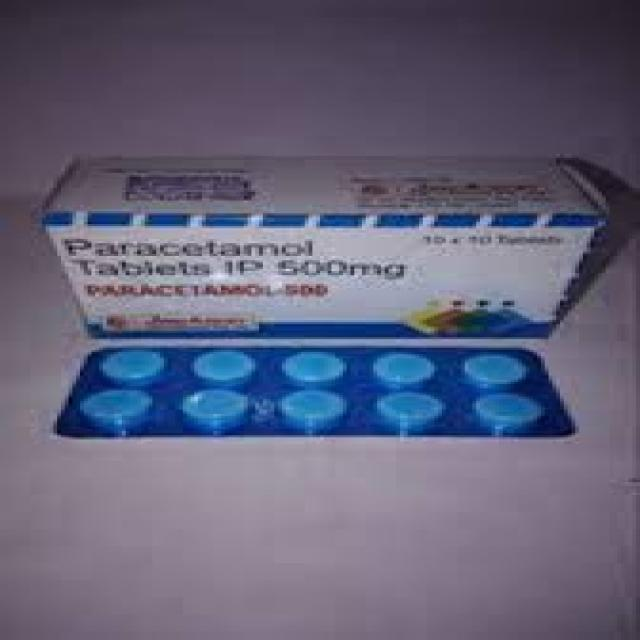authentic: (22, 138, 629, 343), (22, 336, 603, 456)
